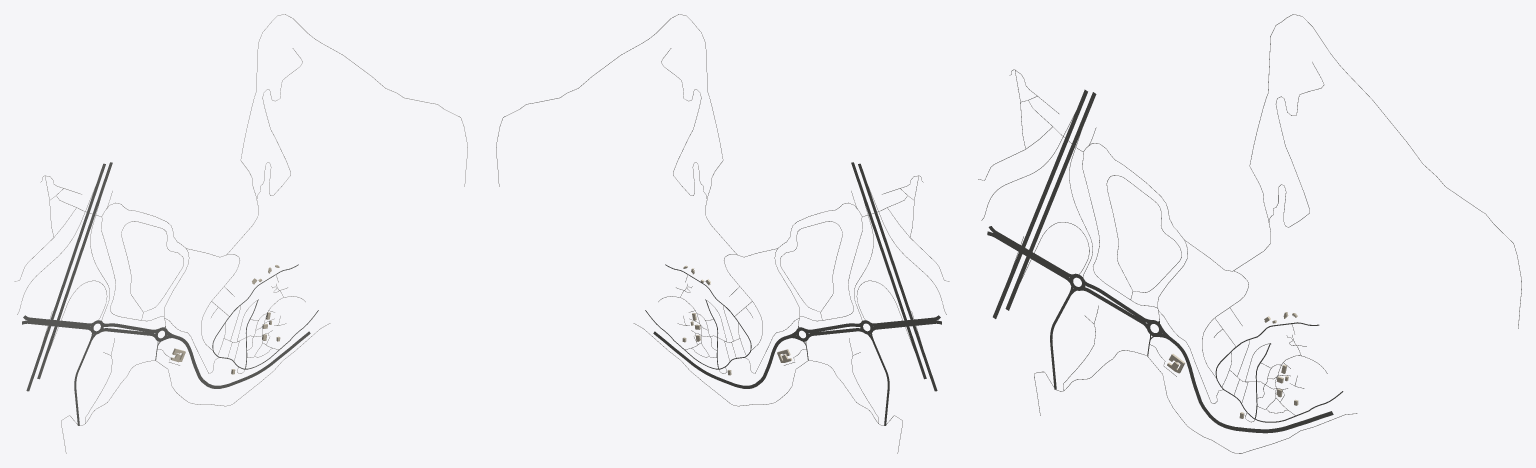
File: historic-palestine-09_33_3510_3272.glb
3 views of the same model, side by side, from view 1: azimuth 30°, elevation 25°; view 2: azimuth 150°, elevation 25°; view 3: azimuth 330°, elevation 25° (orthographic). The views are drawn at different scales.
Parts seen in each view (by area): view 1: Road מגלן, Road דרך העמקים.008, Road כביש חוצה ישראל.002, Road כביש חוצה ישראל.001; view 2: Road מגלן, Road דרך העמקים.008, Road כביש חוצה ישראל.002, Road כביש חוצה ישראל.001; view 3: Road דרך העמקים.008, Road מגלן, Road כביש חוצה ישראל.002, Road כביש חוצה ישראל.001.
Part boxes in pixels (x1=…): Road מגלן: x1=102, y1=14, x2=467, y2=257; Road דרך העמקים.008: x1=173, y1=331, x2=310, y2=388; Road כביש חוצה ישראל.002: x1=59, y1=162, x2=112, y2=311; Road כביש חוצה ישראל.001: x1=53, y1=163, x2=105, y2=311; Road מגלן: x1=496, y1=14, x2=861, y2=257; Road דרך העמקים.008: x1=653, y1=331, x2=790, y2=388; Road כביש חוצה ישראל.002: x1=851, y1=162, x2=904, y2=311; Road כביש חוצה ישראל.001: x1=858, y1=163, x2=910, y2=311; Road דרך העמקים.008: x1=1169, y1=337, x2=1333, y2=433; Road מגלן: x1=1083, y1=14, x2=1521, y2=328; Road כביש חוצה ישראל.002: x1=1032, y1=92, x2=1096, y2=243; Road כביש חוצה ישראל.001: x1=1025, y1=89, x2=1087, y2=238.
Size of the model in its own units: 1773 by 1445 by 9.09.
